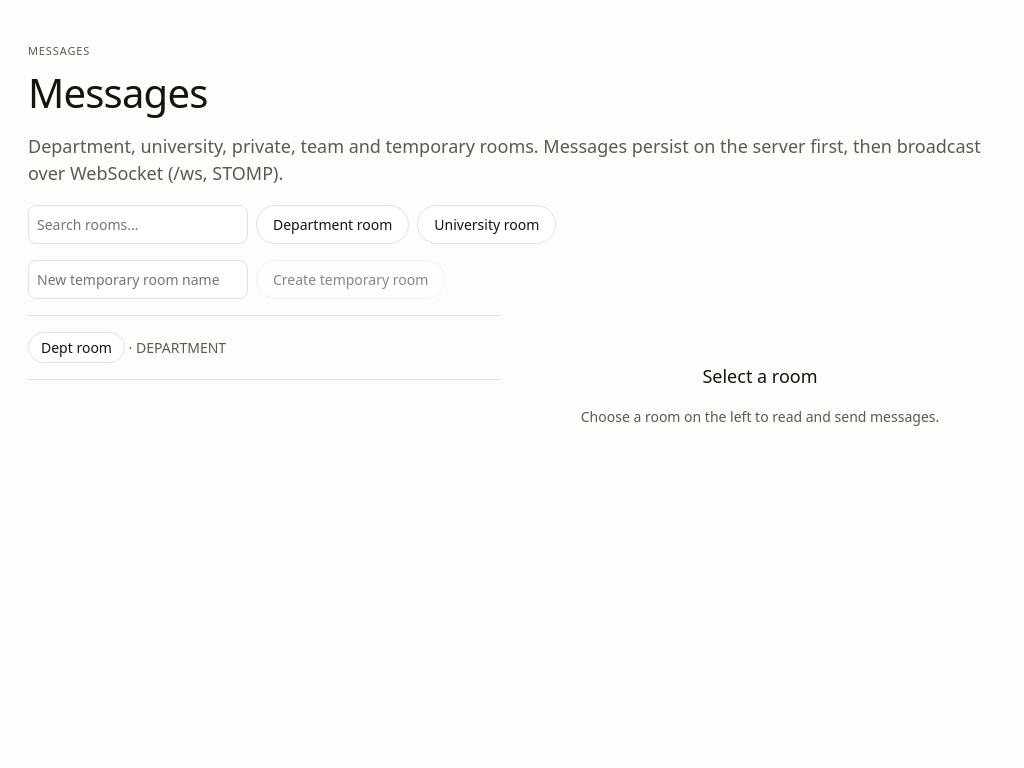
Scenario: MessagesPage read ticks (I-9) › renders ✓ for unread-by-other and ✓✓ only when read is true, only on own messages
The width and height of the screenshot is (1024, 768).
What coordinates should you click on to do the following:
click the button "Dept room"
I would click on:
 (76, 347)
Its box is [28,332,125,362].
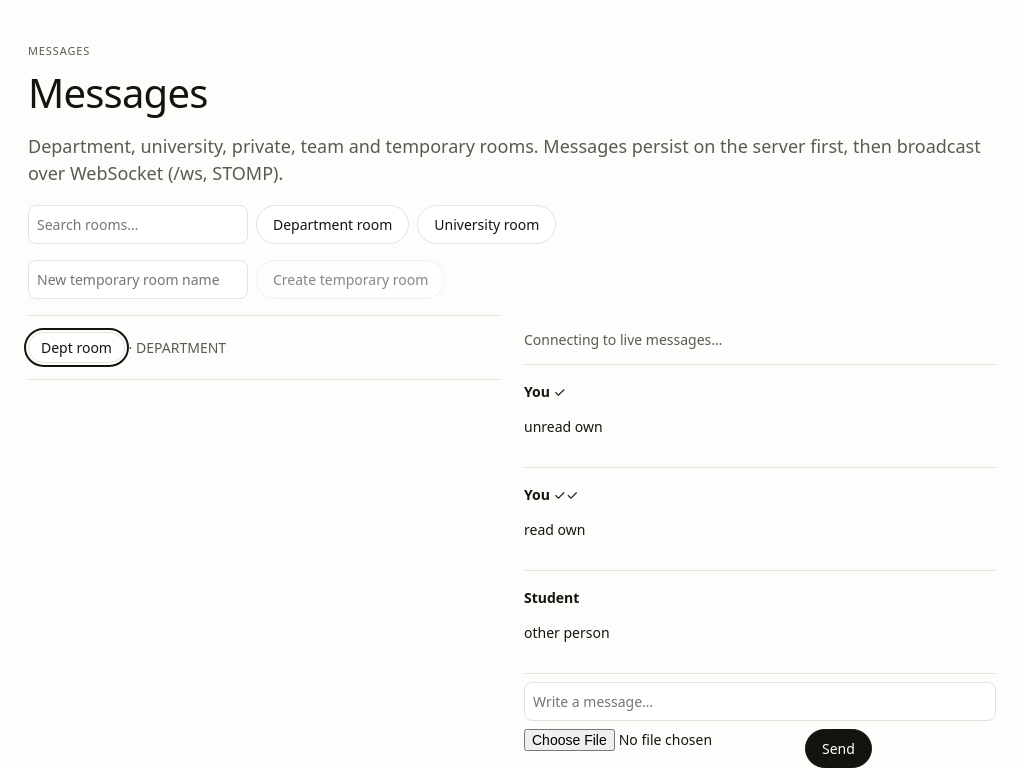
Now the text "unread own" is shown, box [524,416,603,436]
Now the list item "unread own" shows "✓", box [554,382,566,400]
Now the list item "read own" shows "✓✓", box [554,484,578,504]
